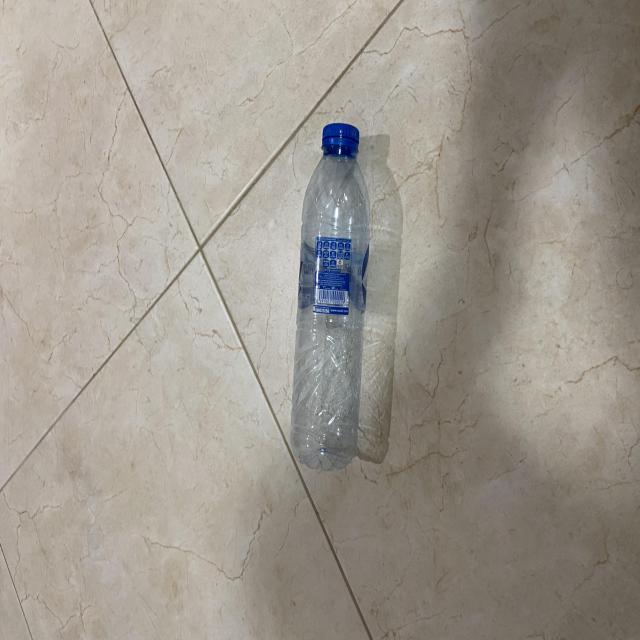bottle: (284, 117, 370, 472)
